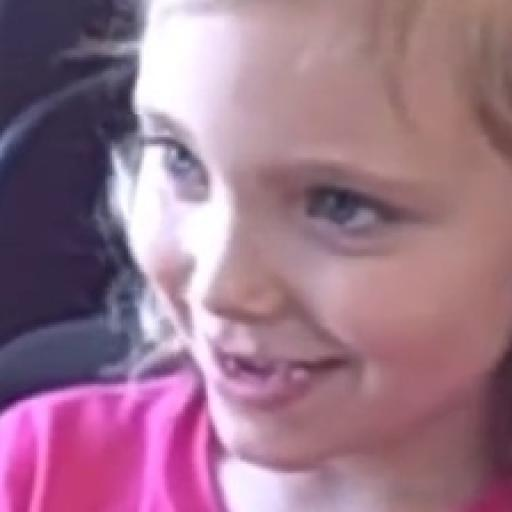Autism: (41, 0, 512, 446)
